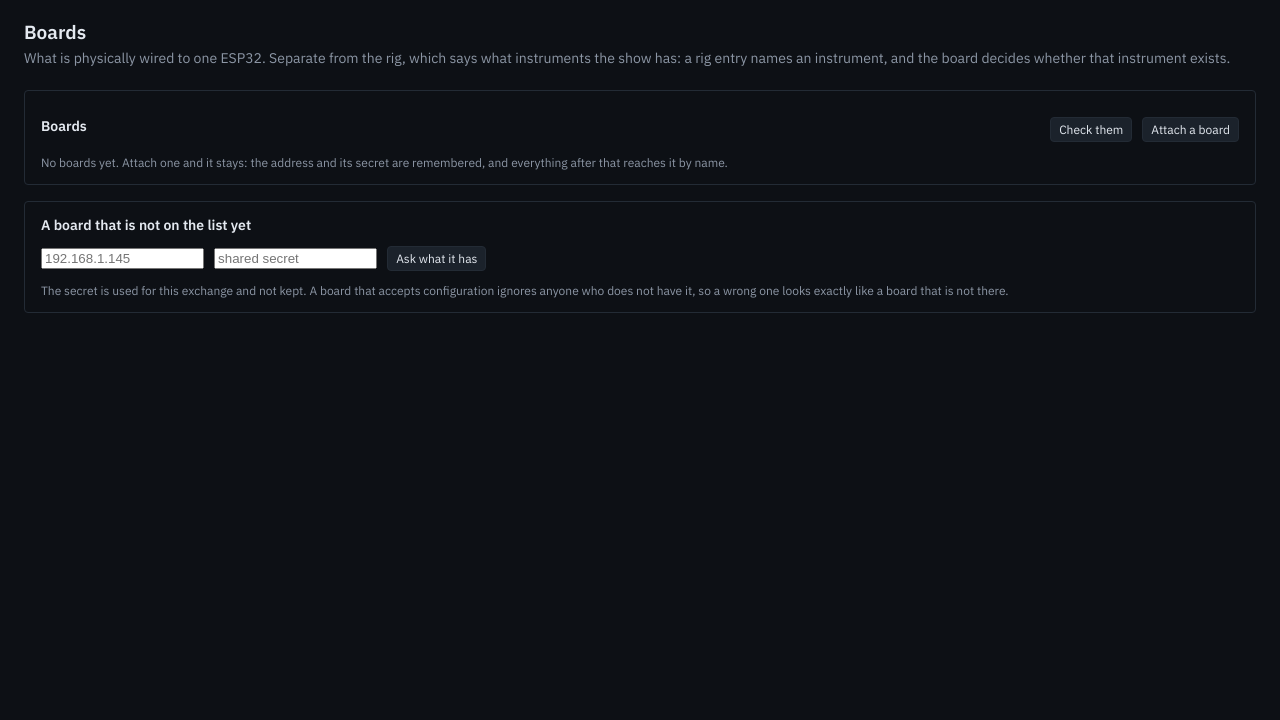
it: what is wired to it › starts from what the board says, so nobody retypes it
In the field named "Board address": (123, 258) [41,248,204,269], type "127.0.0.1:5599"
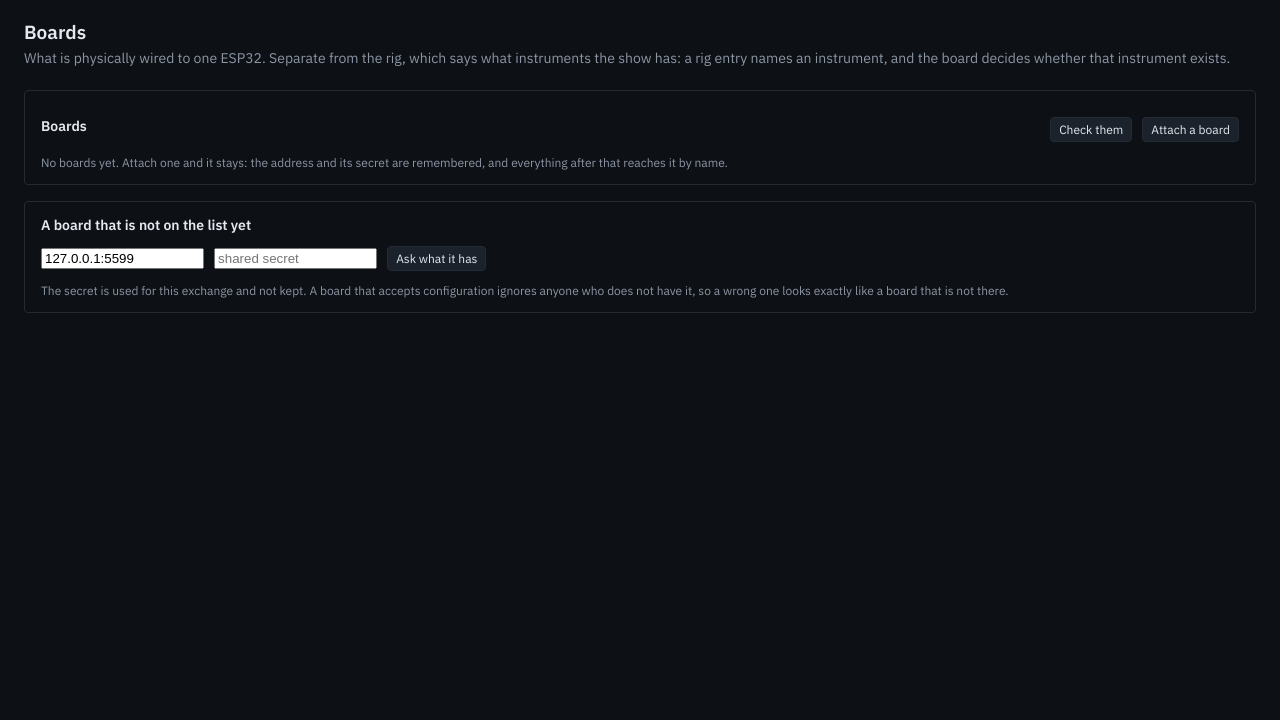
In the password field labelled "shared secret": (296, 258) [214,248,377,269], type "bench secret"
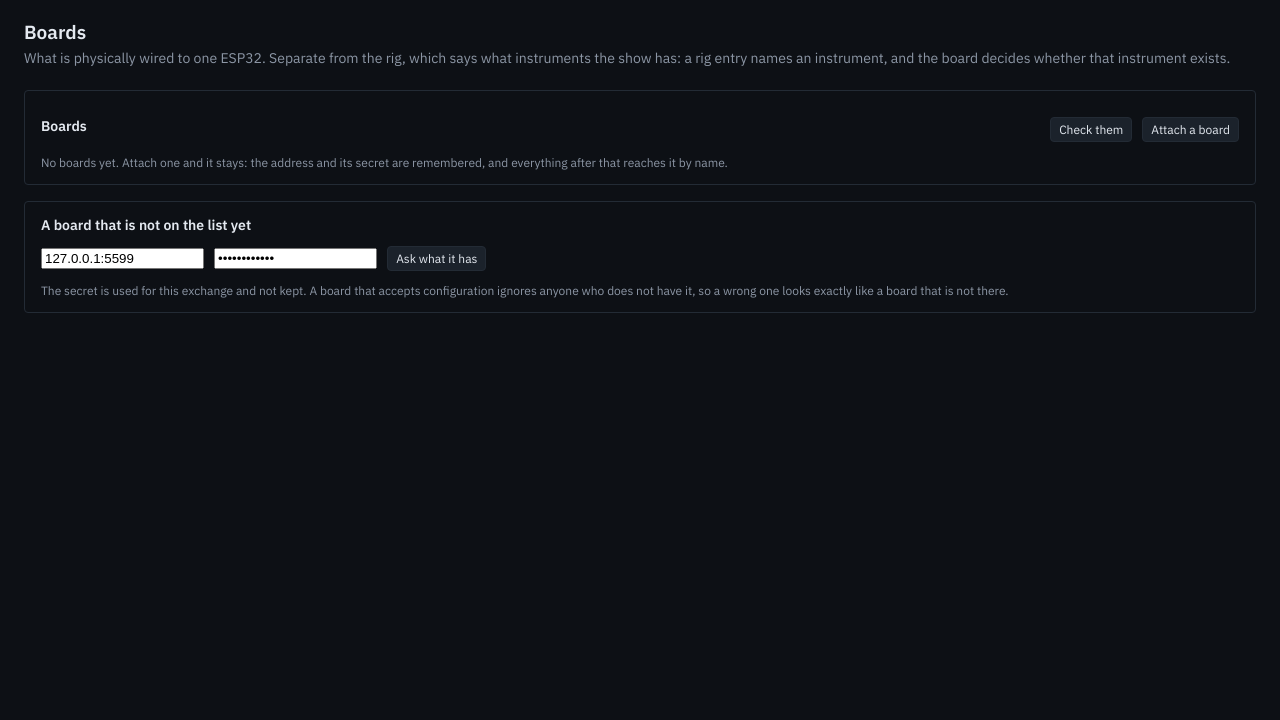
Click the button "Ask what it has": (437, 258) [387,246,486,271]
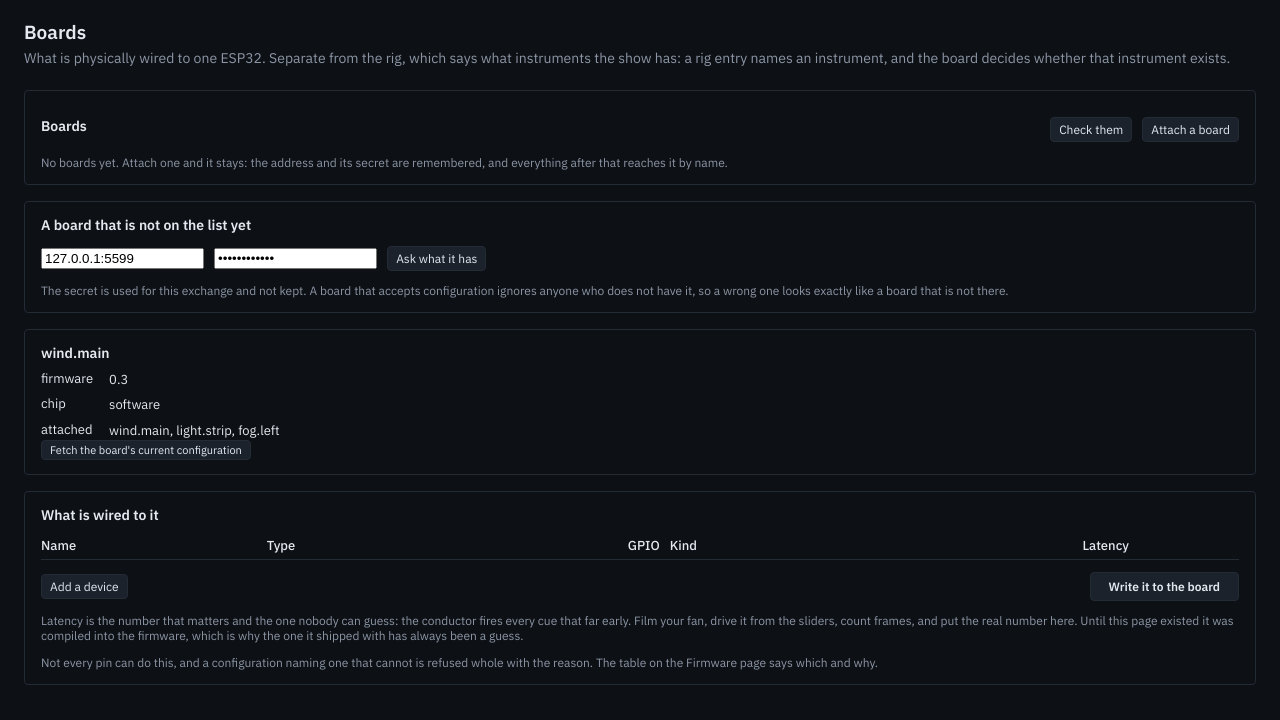
Now the text "wind.main, light.strip, fog.left" is shown, box [109,422,280,439]
Click the button "Fetch the board's current configuration": (146, 450) [41,440,251,460]
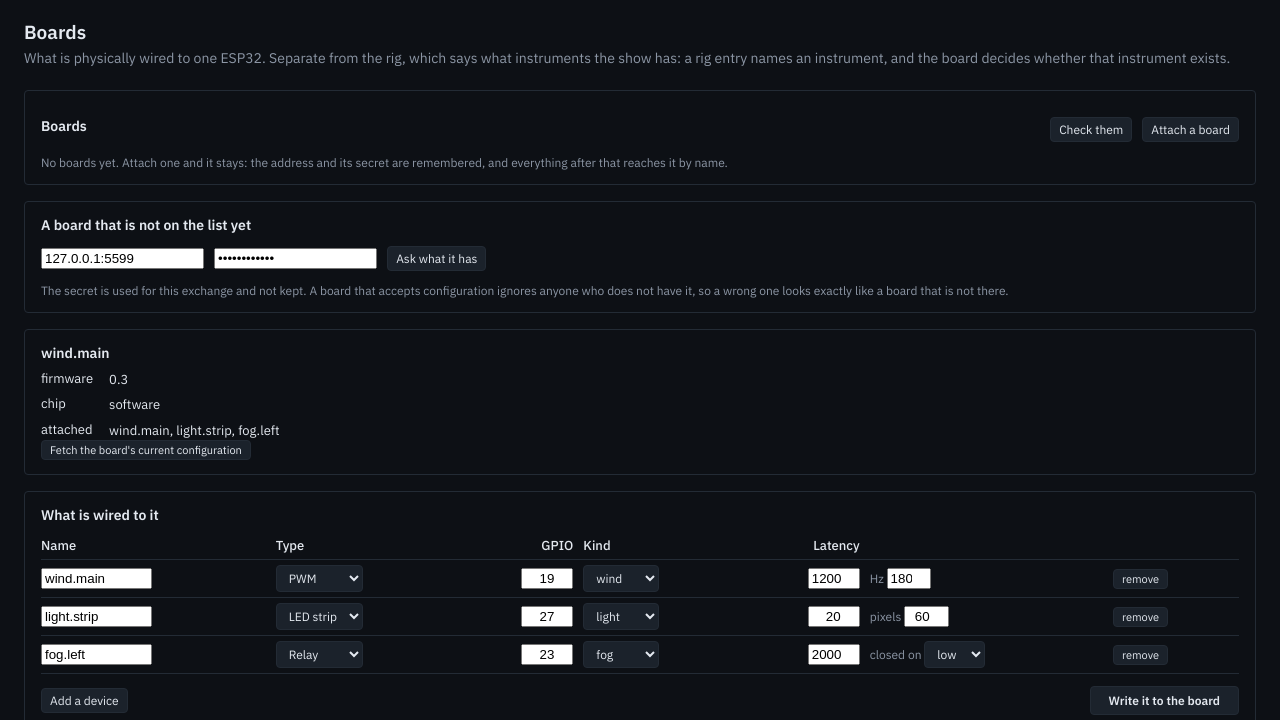
Now the heading "wind.main" is shown, box [41,344,110,362]
Now the field named "Device 1 name" is shown, box [41,568,152,589]
